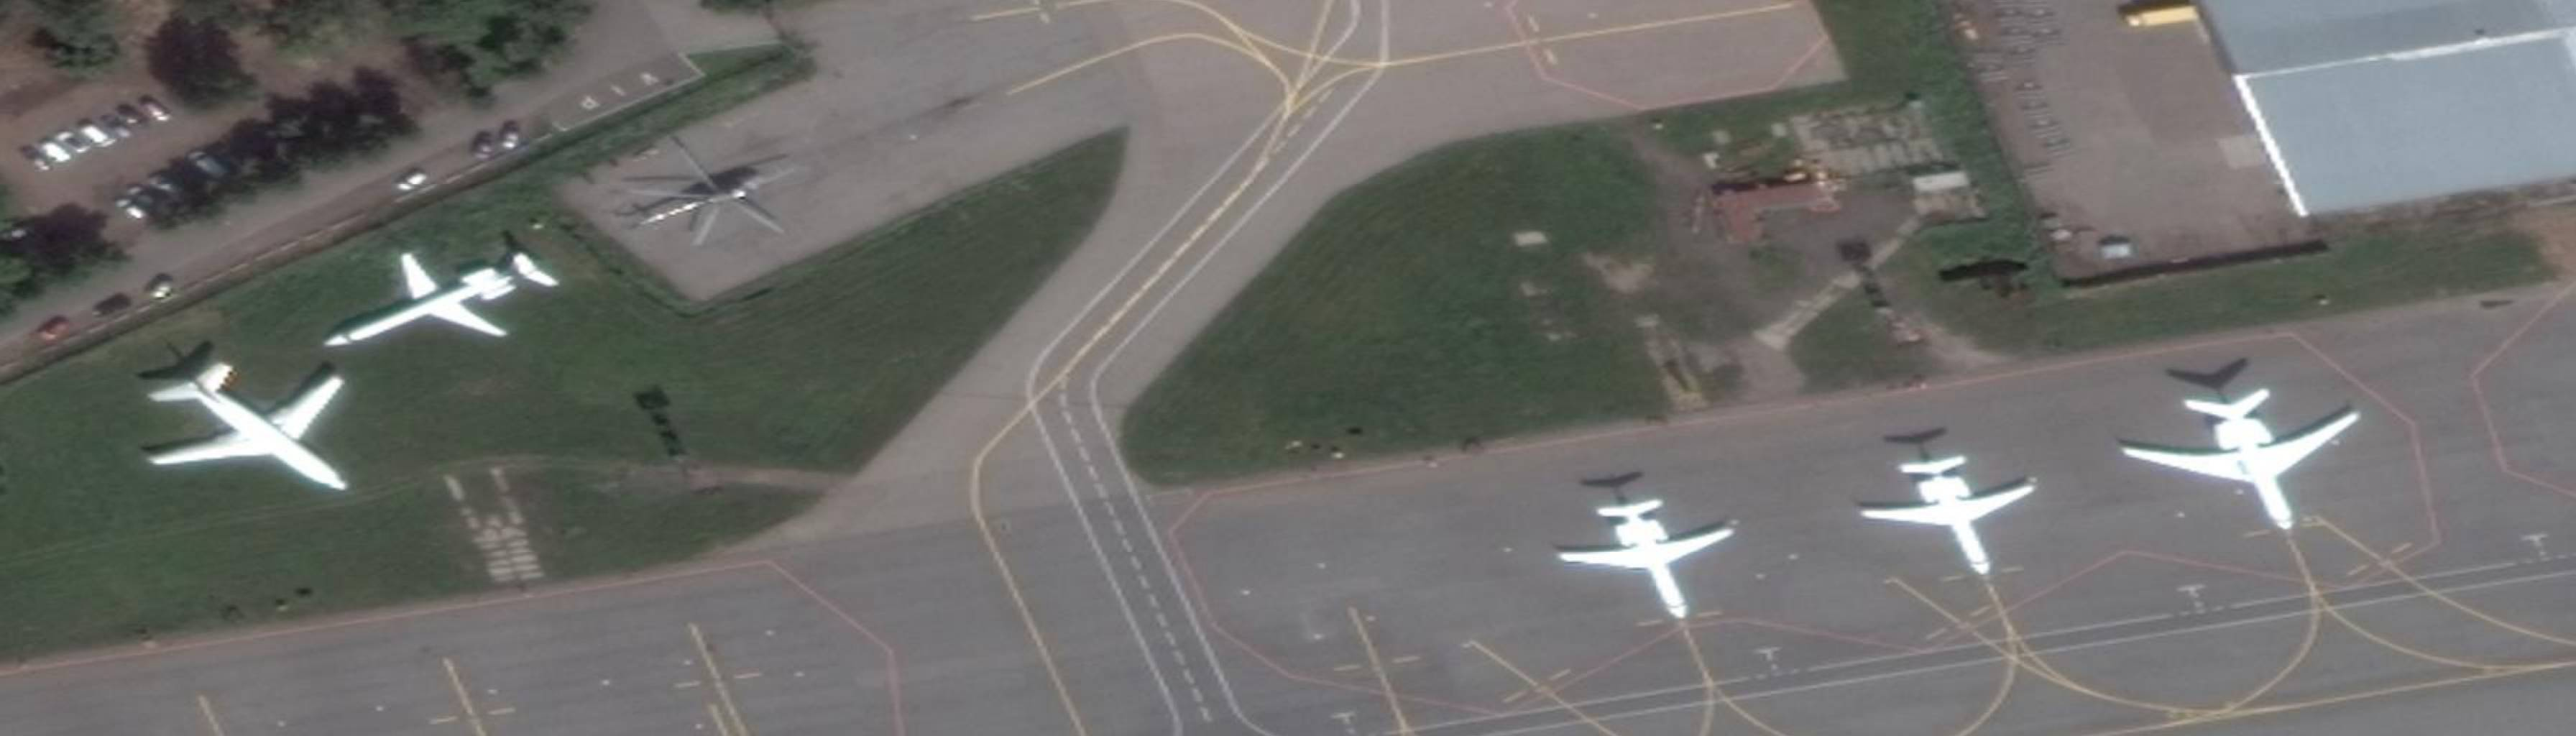plane: (108, 310, 402, 554), (294, 207, 580, 404), (2104, 375, 2397, 540), (1840, 440, 2063, 588), (608, 118, 797, 284), (1541, 485, 1763, 626)
